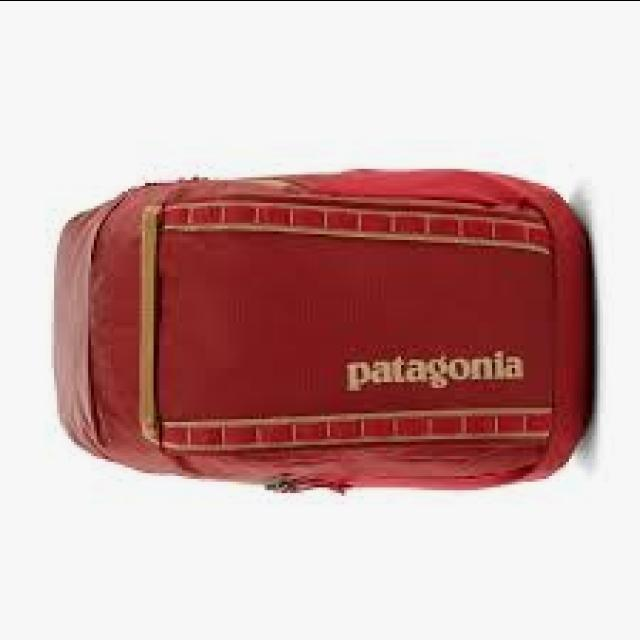backpack: (49, 169, 593, 496)
